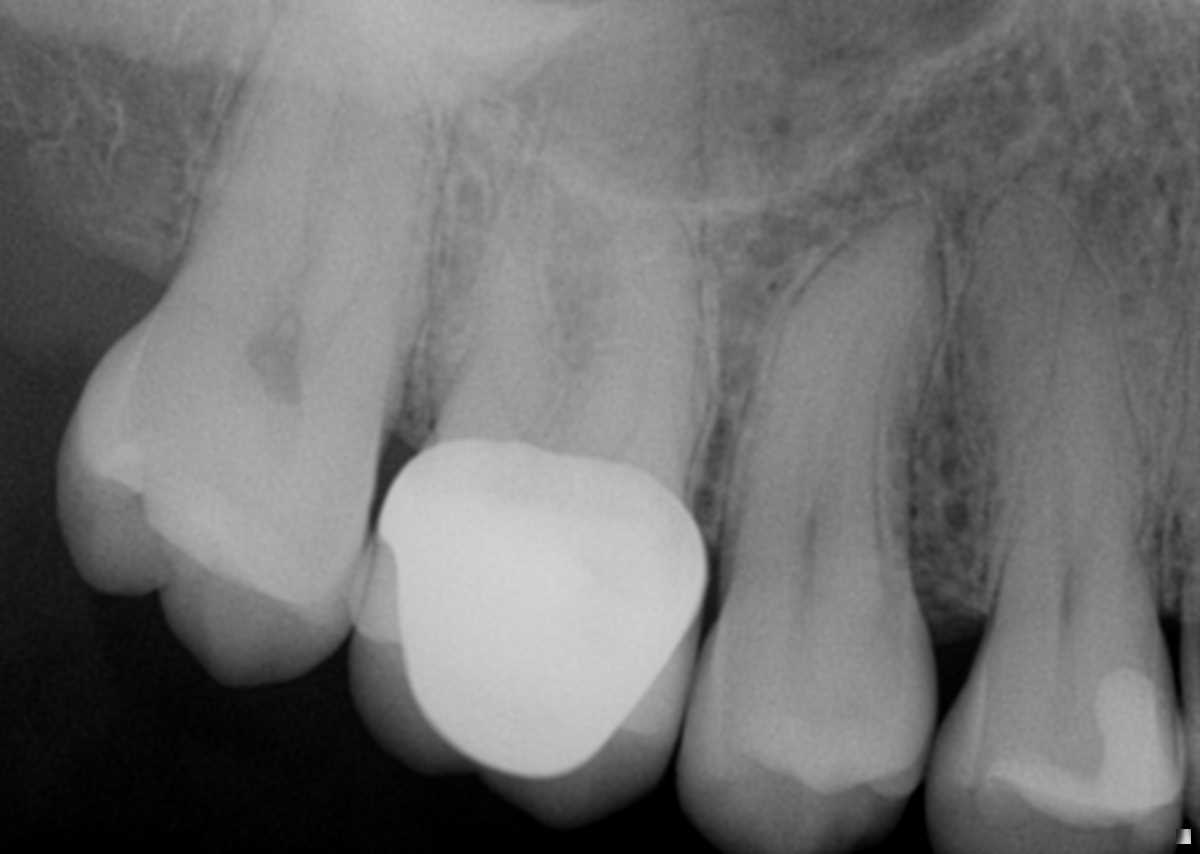Distal Canal: (492, 349, 528, 441)
Distal Root: (172, 13, 353, 345)
Main Canal: (1010, 205, 1078, 596), (799, 332, 864, 583)
Main Root: (723, 199, 951, 601), (980, 184, 1151, 601)
Mesial Canal: (612, 259, 649, 462)
Mesial Root: (301, 50, 435, 383), (585, 190, 714, 474)
Palatal Root: (431, 0, 713, 496), (188, 0, 479, 367)
